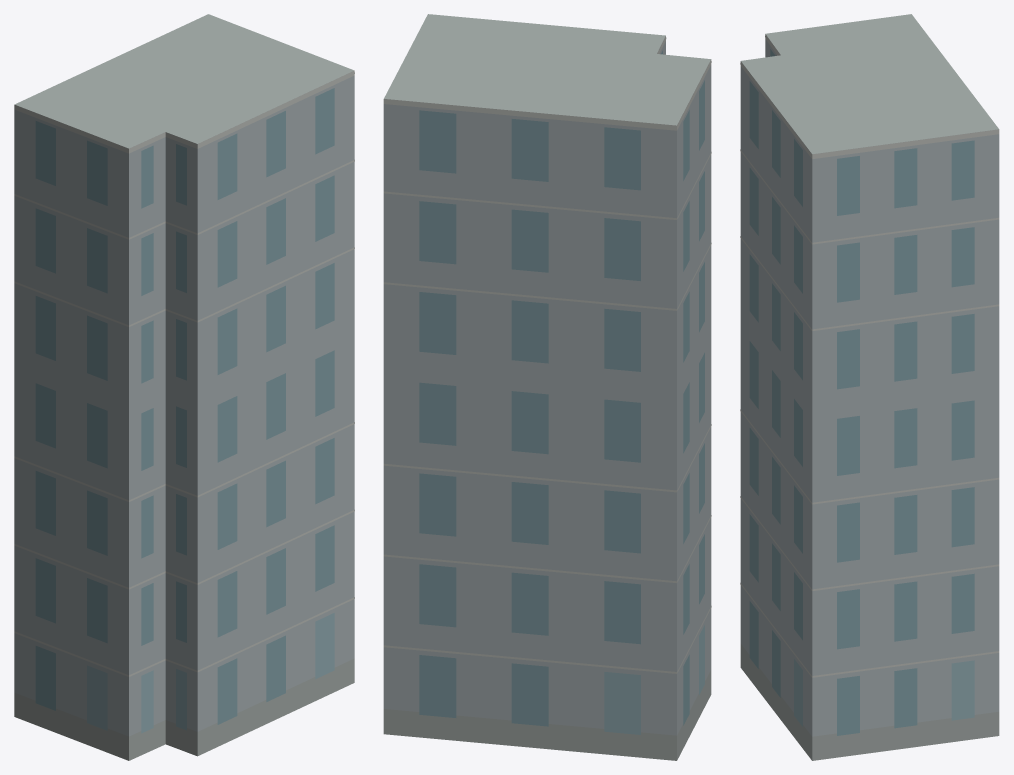
The model's file is survey-upis-32559760.glb.
The picture shows the model from 3 angles, left to right: view 1: azimuth 30°, elevation 25°; view 2: azimuth 150°, elevation 25°; view 3: azimuth 270°, elevation 25°; orthographic projection. The views are drawn at different scales.
Visible parts, largest first — view 1: survey-upis-32559760.tmp; view 2: survey-upis-32559760.tmp; view 3: survey-upis-32559760.tmp.
Part boxes in pixels (box(x1,y1,x2,y2)): survey-upis-32559760.tmp: box(14, 14, 354, 760); survey-upis-32559760.tmp: box(383, 14, 711, 760); survey-upis-32559760.tmp: box(740, 14, 999, 760).
Bounding box in the file's own units: 14.85 × 29.9 × 11.58.
